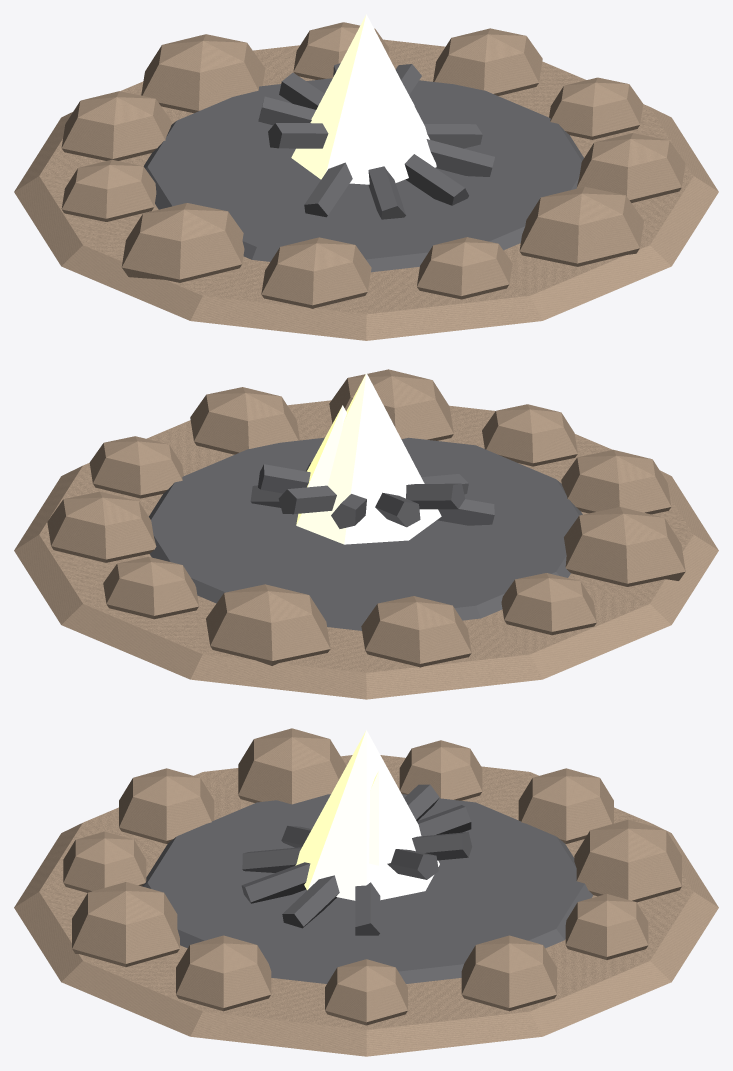
File: safari-camp-and-bush-lodge-fire-pit-and-stone-ring-bc4f9a35.glb
The picture shows the model from 3 angles, top to bottom: view 1: azimuth 30°, elevation 25°; view 2: azimuth 150°, elevation 25°; view 3: azimuth 270°, elevation 25°; orthographic projection.
Parts seen in each view (by area): view 1: fire-pit-and-stone-ring-earth, fire-pit-and-stone-ring-charcoal, fire-pit-and-stone-ring-lamp; view 2: fire-pit-and-stone-ring-earth, fire-pit-and-stone-ring-charcoal, fire-pit-and-stone-ring-lamp; view 3: fire-pit-and-stone-ring-earth, fire-pit-and-stone-ring-charcoal, fire-pit-and-stone-ring-lamp.
Part boxes in pixels (box(x1,y1,x2,y2)): fire-pit-and-stone-ring-earth: box(14, 22, 718, 340); fire-pit-and-stone-ring-charcoal: box(143, 63, 583, 272); fire-pit-and-stone-ring-lamp: box(291, 14, 436, 184); fire-pit-and-stone-ring-earth: box(14, 369, 718, 699); fire-pit-and-stone-ring-charcoal: box(149, 437, 582, 630); fire-pit-and-stone-ring-lamp: box(296, 373, 441, 544); fire-pit-and-stone-ring-earth: box(14, 728, 718, 1056); fire-pit-and-stone-ring-charcoal: box(142, 784, 593, 983); fire-pit-and-stone-ring-lamp: box(295, 730, 439, 900).
Bounding box in the file's own units: 2.8 × 0.8771 × 2.8.
Materials: 3 (1 with a texture image).
